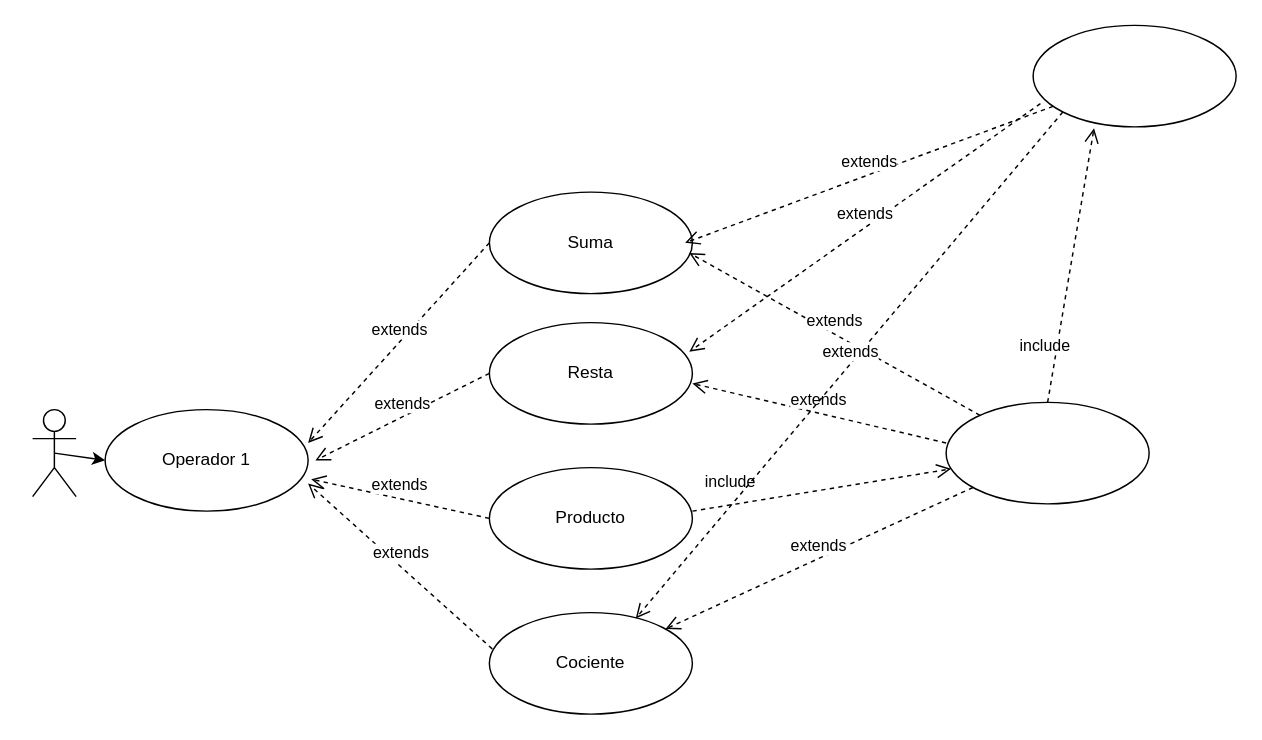
The diagram is 1262 pixels wide and 740 high, and some of its shapes have lost their labels. The shapes that lost their labels are listed below. From the top down, each one's box as (x1, y1, x2, y2) in pixels, then its label:
(1032, 24, 1236, 127): Resultado
(31, 408, 76, 497): Usuario
(945, 401, 1149, 504): Operador 2
